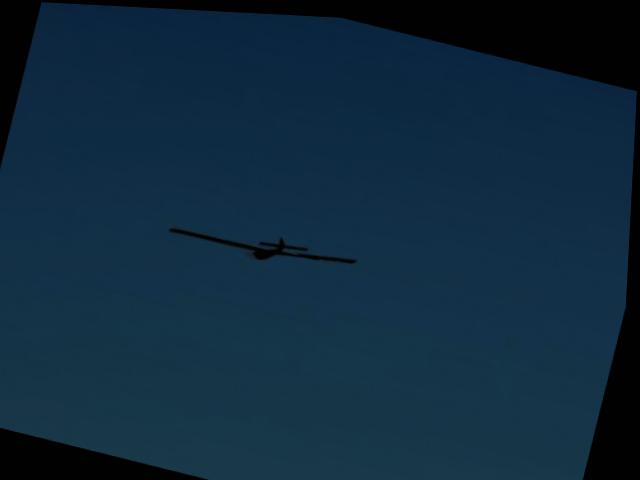iha: (165, 201, 373, 285)
